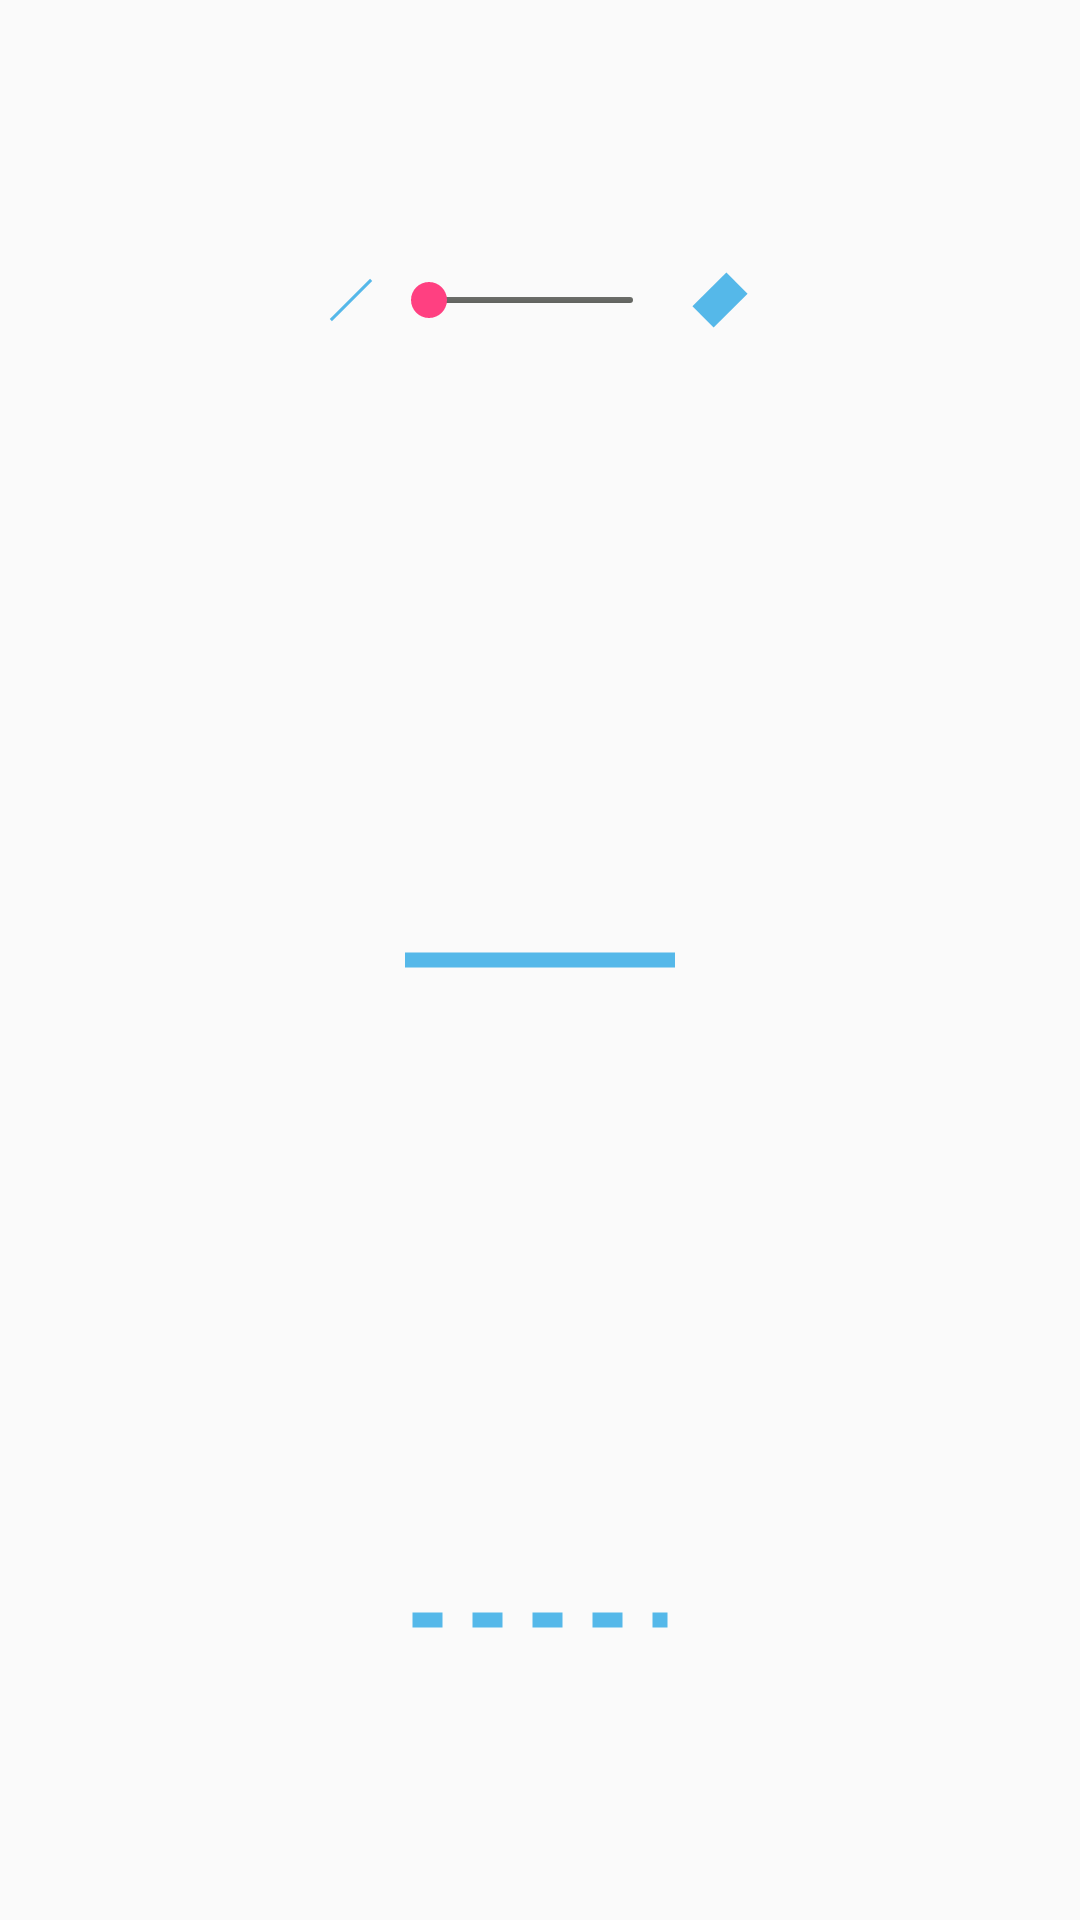

Point at icon controls on the screen. Image size 1080x1920, points as [x,y].
size line: [720,300], [351,300]
